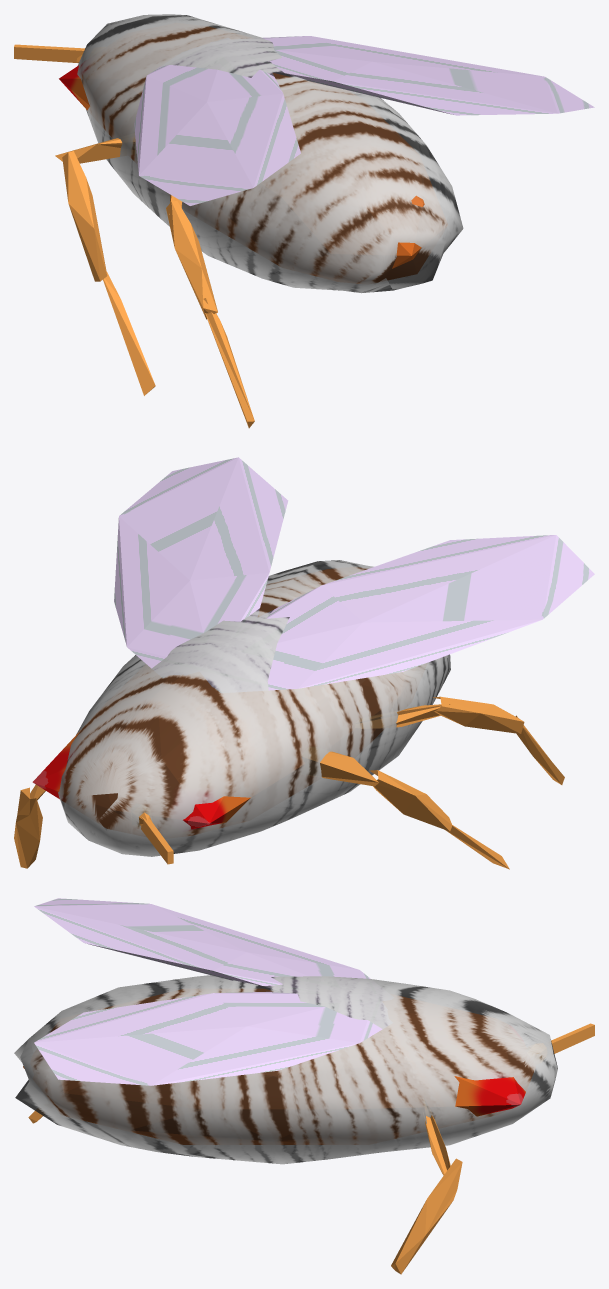
File: food.glb
The picture shows the model from 3 angles, top to bottom: view 1: azimuth 30°, elevation 25°; view 2: azimuth 150°, elevation 25°; view 3: azimuth 270°, elevation 25°; orthographic projection. The views are drawn at different scales.
Parts seen in each view (by area): view 1: trap, wings, wings.001, body, legs, legs.001, eyes; view 2: trap, wings, wings.001, body, legs, legs.001, legs.002, eyes; view 3: trap, wings.001, body, wings, legs.002, eyes.
Part boxes in pixels (x1=…): trap: x1=77, y1=14, x2=463, y2=293; wings: x1=134, y1=42, x2=300, y2=205; wings.001: x1=238, y1=36, x2=594, y2=115; body: x1=59, y1=26, x2=444, y2=283; legs: x1=55, y1=138, x2=155, y2=395; legs.001: x1=166, y1=194, x2=254, y2=428; eyes: x1=14, y1=44, x2=85, y2=63; trap: x1=58, y1=560, x2=450, y2=856; wings: x1=195, y1=535, x2=594, y2=692; wings.001: x1=114, y1=457, x2=288, y2=677; body: x1=32, y1=567, x2=424, y2=835; legs: x1=301, y1=747, x2=509, y2=869; legs.001: x1=359, y1=696, x2=564, y2=784; legs.002: x1=14, y1=784, x2=45, y2=868; eyes: x1=137, y1=808, x2=173, y2=864; trap: x1=14, y1=975, x2=557, y2=1164; wings.001: x1=34, y1=992, x2=387, y2=1085; body: x1=23, y1=989, x2=533, y2=1144; wings: x1=34, y1=898, x2=381, y2=1000; legs.002: x1=391, y1=1104, x2=462, y2=1274; eyes: x1=537, y1=1023, x2=594, y2=1059.
Bounding box in the file's own units: 2.47 × 1.49 × 3.33.
Materials: 4 (3 with a texture image).
